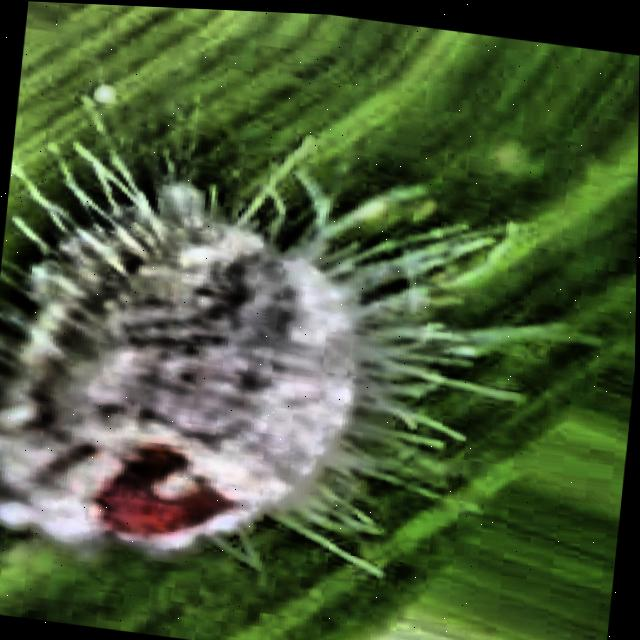Mealy-bug: (0, 74, 595, 640)
